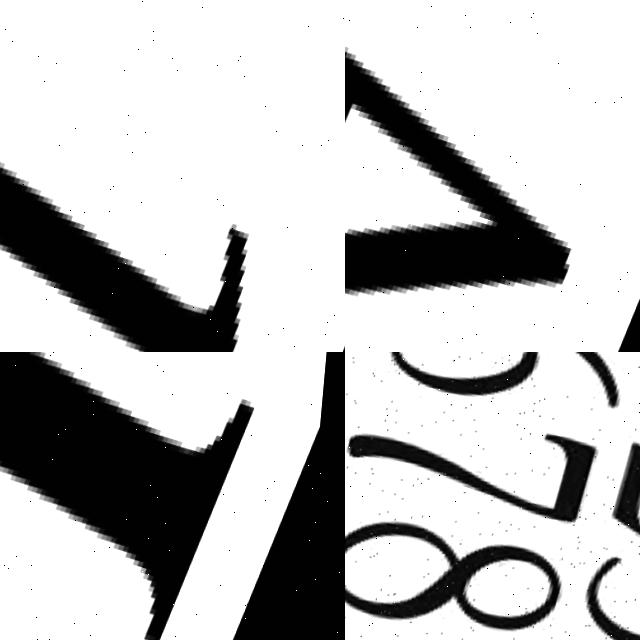1: (0, 0, 345, 352)
6: (363, 352, 640, 457)
7: (345, 362, 622, 565)
8: (345, 477, 596, 640)
A: (345, 0, 640, 352)
